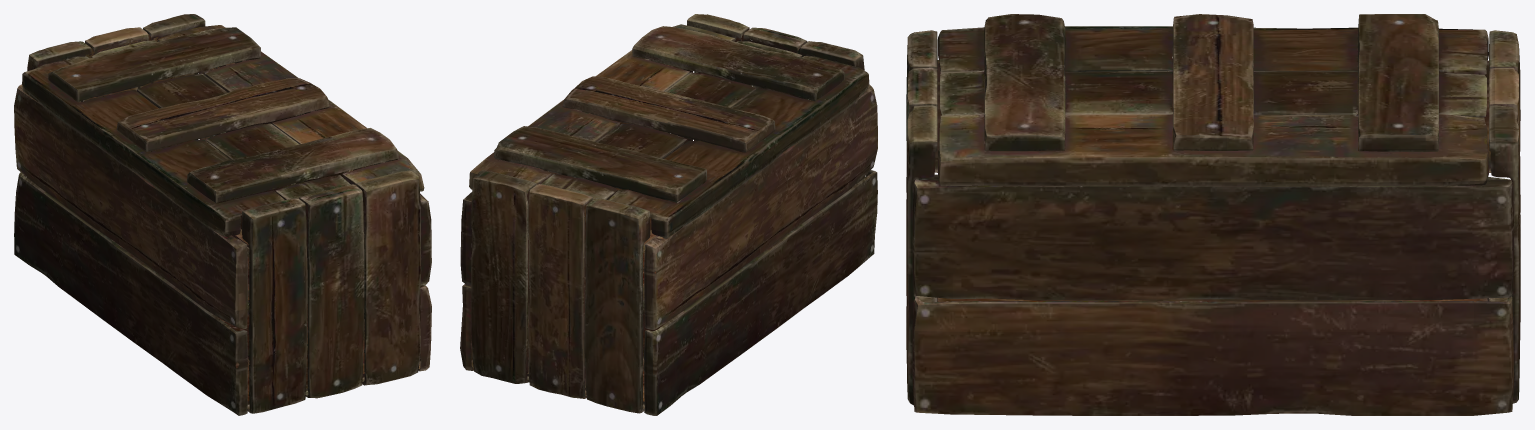
The picture shows the model from 3 angles, left to right: view 1: azimuth 30°, elevation 25°; view 2: azimuth 150°, elevation 25°; view 3: azimuth 270°, elevation 25°; orthographic projection. The views are drawn at different scales.
Visible parts, largest first — view 1: SM_Dec_Garou_Crate_01_LOD0; view 2: SM_Dec_Garou_Crate_01_LOD0; view 3: SM_Dec_Garou_Crate_01_LOD0.
Part boxes in pixels (bbox=[...]): SM_Dec_Garou_Crate_01_LOD0: bbox=[14, 14, 431, 415]; SM_Dec_Garou_Crate_01_LOD0: bbox=[460, 14, 877, 415]; SM_Dec_Garou_Crate_01_LOD0: bbox=[906, 14, 1520, 415].
Size of the model in its own units: 0.4801 by 0.4781 by 0.9388.
1 material, 1 textured.
